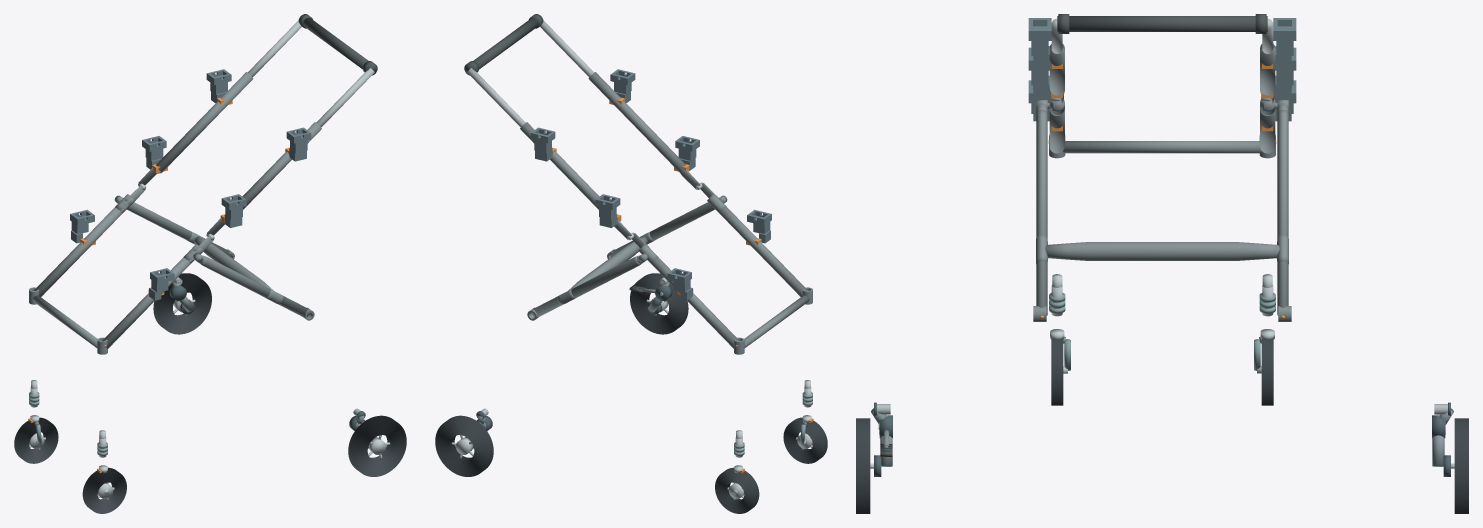
The model's file is w550_state4_wheel_S.glb.
The picture shows the model from 3 angles, left to right: view 1: azimuth 30°, elevation 25°; view 2: azimuth 150°, elevation 25°; view 3: azimuth 270°, elevation 25°; orthographic projection. The views are drawn at different scales.
Visible parts, largest first — view 1: RL_tire.005, RR_tire.005, FL_tire.005, main_upper_1.006, FR_tire.005, main_lower_1.006, V46_rear_leg_-1.006, main_lower_-1.006, round_handle.005, main_upper_-1.006, V46_rear_leg_1.006, V46_rearbar.006 (+9 smaller); view 2: RR_tire.005, RL_tire.005, FR_tire.005, main_upper_-1.006, FL_tire.005, main_lower_-1.006, V46_rear_leg_1.006, main_lower_1.006, round_handle.005, main_upper_1.006, V46_rear_leg_-1.006, V46_rearbar.006 (+9 smaller); view 3: V46_rearbar.006, round_handle.005, front_fixed_round_tube.005, V46_rear_leg_1.006, V46_rear_leg_-1.006, RL_tire.005, RR_tire.005, Universal_Cabin_Receiver_H_1, Universal_Cabin_Receiver_H_-1, FL_tire.005, FR_tire.005.
Boxes of the visible parts, x1=… form: RL_tire.005: x1=348, y1=415, x2=406, y2=476; RR_tire.005: x1=153, y1=273, x2=211, y2=334; FL_tire.005: x1=82, y1=467, x2=126, y2=513; main_upper_1.006: x1=156, y1=72, x2=253, y2=172; FR_tire.005: x1=14, y1=417, x2=58, y2=463; main_lower_1.006: x1=34, y1=204, x2=128, y2=296; V46_rear_leg_-1.006: x1=201, y1=256, x2=309, y2=317; main_lower_-1.006: x1=102, y1=257, x2=193, y2=348; round_handle.005: x1=303, y1=17, x2=376, y2=74; main_upper_-1.006: x1=242, y1=122, x2=321, y2=209; V46_rear_leg_1.006: x1=127, y1=202, x2=231, y2=256; V46_rearbar.006: x1=194, y1=236, x2=273, y2=290; RR_tire.005: x1=435, y1=415, x2=493, y2=476; RL_tire.005: x1=630, y1=273, x2=688, y2=334; FR_tire.005: x1=715, y1=467, x2=759, y2=513; main_upper_-1.006: x1=588, y1=72, x2=685, y2=172; FL_tire.005: x1=783, y1=417, x2=827, y2=463; main_lower_-1.006: x1=713, y1=204, x2=807, y2=296; V46_rear_leg_1.006: x1=532, y1=256, x2=640, y2=317; main_lower_1.006: x1=648, y1=257, x2=739, y2=348; round_handle.005: x1=465, y1=17, x2=538, y2=74; main_upper_1.006: x1=520, y1=122, x2=599, y2=209; V46_rear_leg_-1.006: x1=610, y1=202, x2=714, y2=256; V46_rearbar.006: x1=568, y1=236, x2=647, y2=290; V46_rearbar.006: x1=1045, y1=242, x2=1279, y2=260; round_handle.005: x1=1057, y1=16, x2=1267, y2=31; front_fixed_round_tube.005: x1=1063, y1=141, x2=1261, y2=153; V46_rear_leg_1.006: x1=1277, y1=110, x2=1288, y2=315; V46_rear_leg_-1.006: x1=1036, y1=110, x2=1047, y2=315; RL_tire.005: x1=856, y1=418, x2=870, y2=513; RR_tire.005: x1=1454, y1=418, x2=1468, y2=513; Universal_Cabin_Receiver_H_1: x1=1273, y1=18, x2=1296, y2=69; Universal_Cabin_Receiver_H_-1: x1=1028, y1=18, x2=1051, y2=69; FL_tire.005: x1=1051, y1=338, x2=1063, y2=405; FR_tire.005: x1=1261, y1=338, x2=1273, y2=405.
Bounding box in the file's own units: 1.09 × 1.36 × 1.28.
